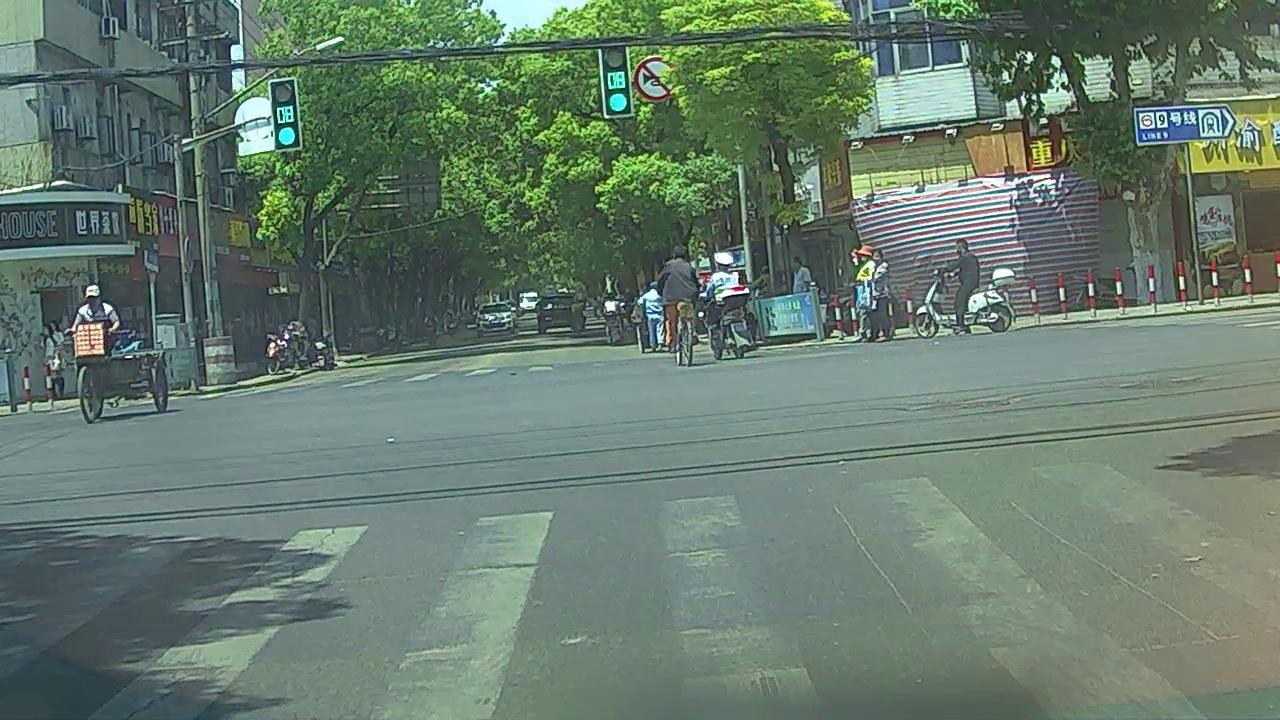traffic_light: (600, 47, 632, 114), (270, 82, 299, 148)
